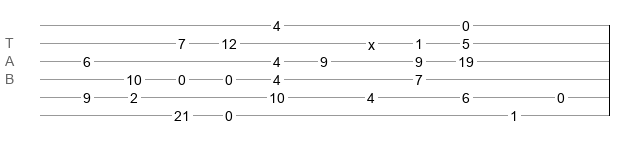0: (178, 72, 186, 82), (225, 108, 233, 118), (225, 72, 233, 82), (462, 18, 470, 28), (557, 90, 565, 100)
1: (415, 36, 423, 46), (510, 108, 518, 118)
10: (126, 72, 142, 82), (269, 90, 285, 100)
12: (221, 36, 237, 46)
19: (458, 54, 474, 64)
2: (130, 90, 138, 100)
21: (174, 108, 190, 118)
4: (273, 72, 281, 82), (273, 18, 281, 28), (273, 54, 281, 64), (367, 90, 375, 100)
5: (462, 36, 470, 46)
6: (83, 54, 91, 64), (462, 90, 470, 100)
7: (178, 36, 186, 46), (415, 72, 423, 82)
9: (83, 90, 91, 100), (320, 54, 328, 64), (415, 54, 423, 64)
x: (368, 37, 375, 45)
